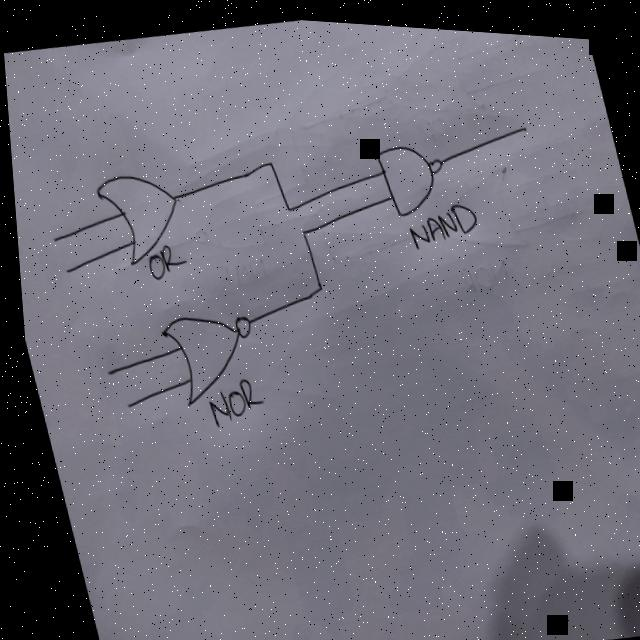junction: (306, 272, 323, 291), (258, 150, 273, 165), (293, 220, 304, 234), (278, 198, 289, 209)
terminal: (515, 113, 527, 127), (95, 364, 107, 376), (115, 397, 126, 409), (44, 233, 54, 242), (57, 264, 65, 274)
text: (399, 192, 478, 246), (194, 368, 263, 428), (136, 235, 187, 281)
